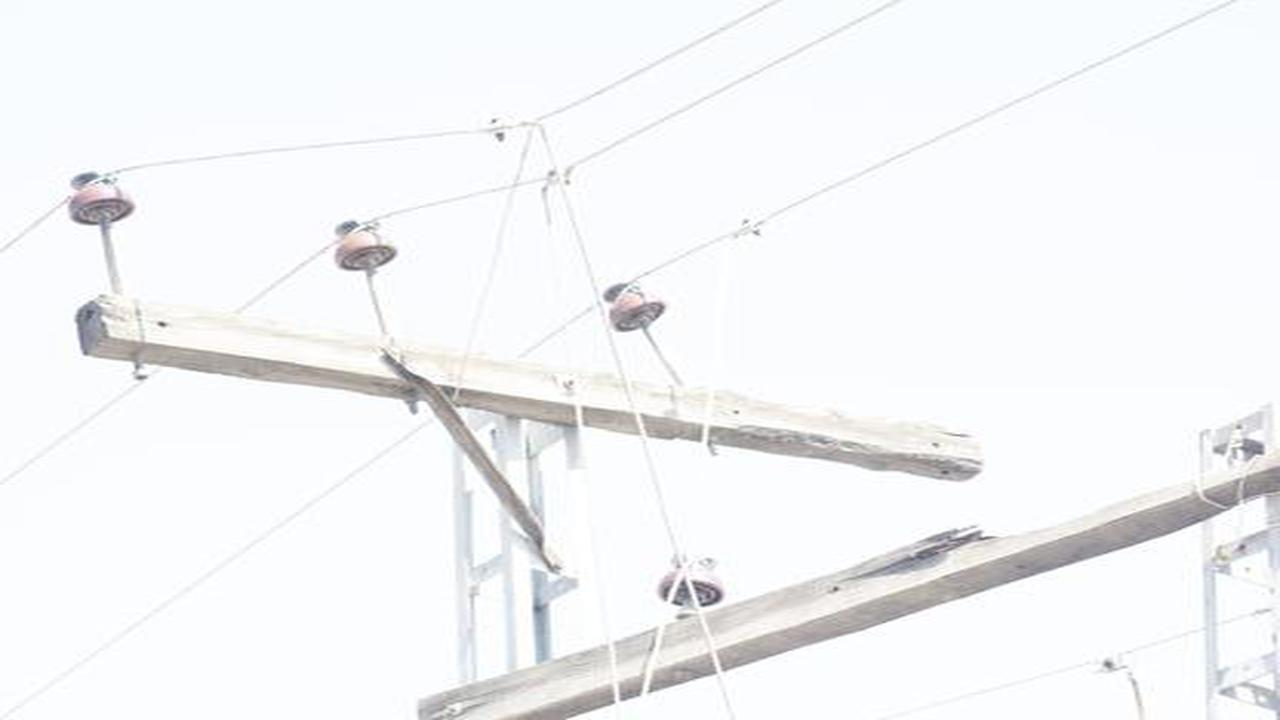insulator_pin: (324, 210, 400, 281), (601, 274, 675, 341), (658, 550, 727, 612), (66, 170, 137, 228)
